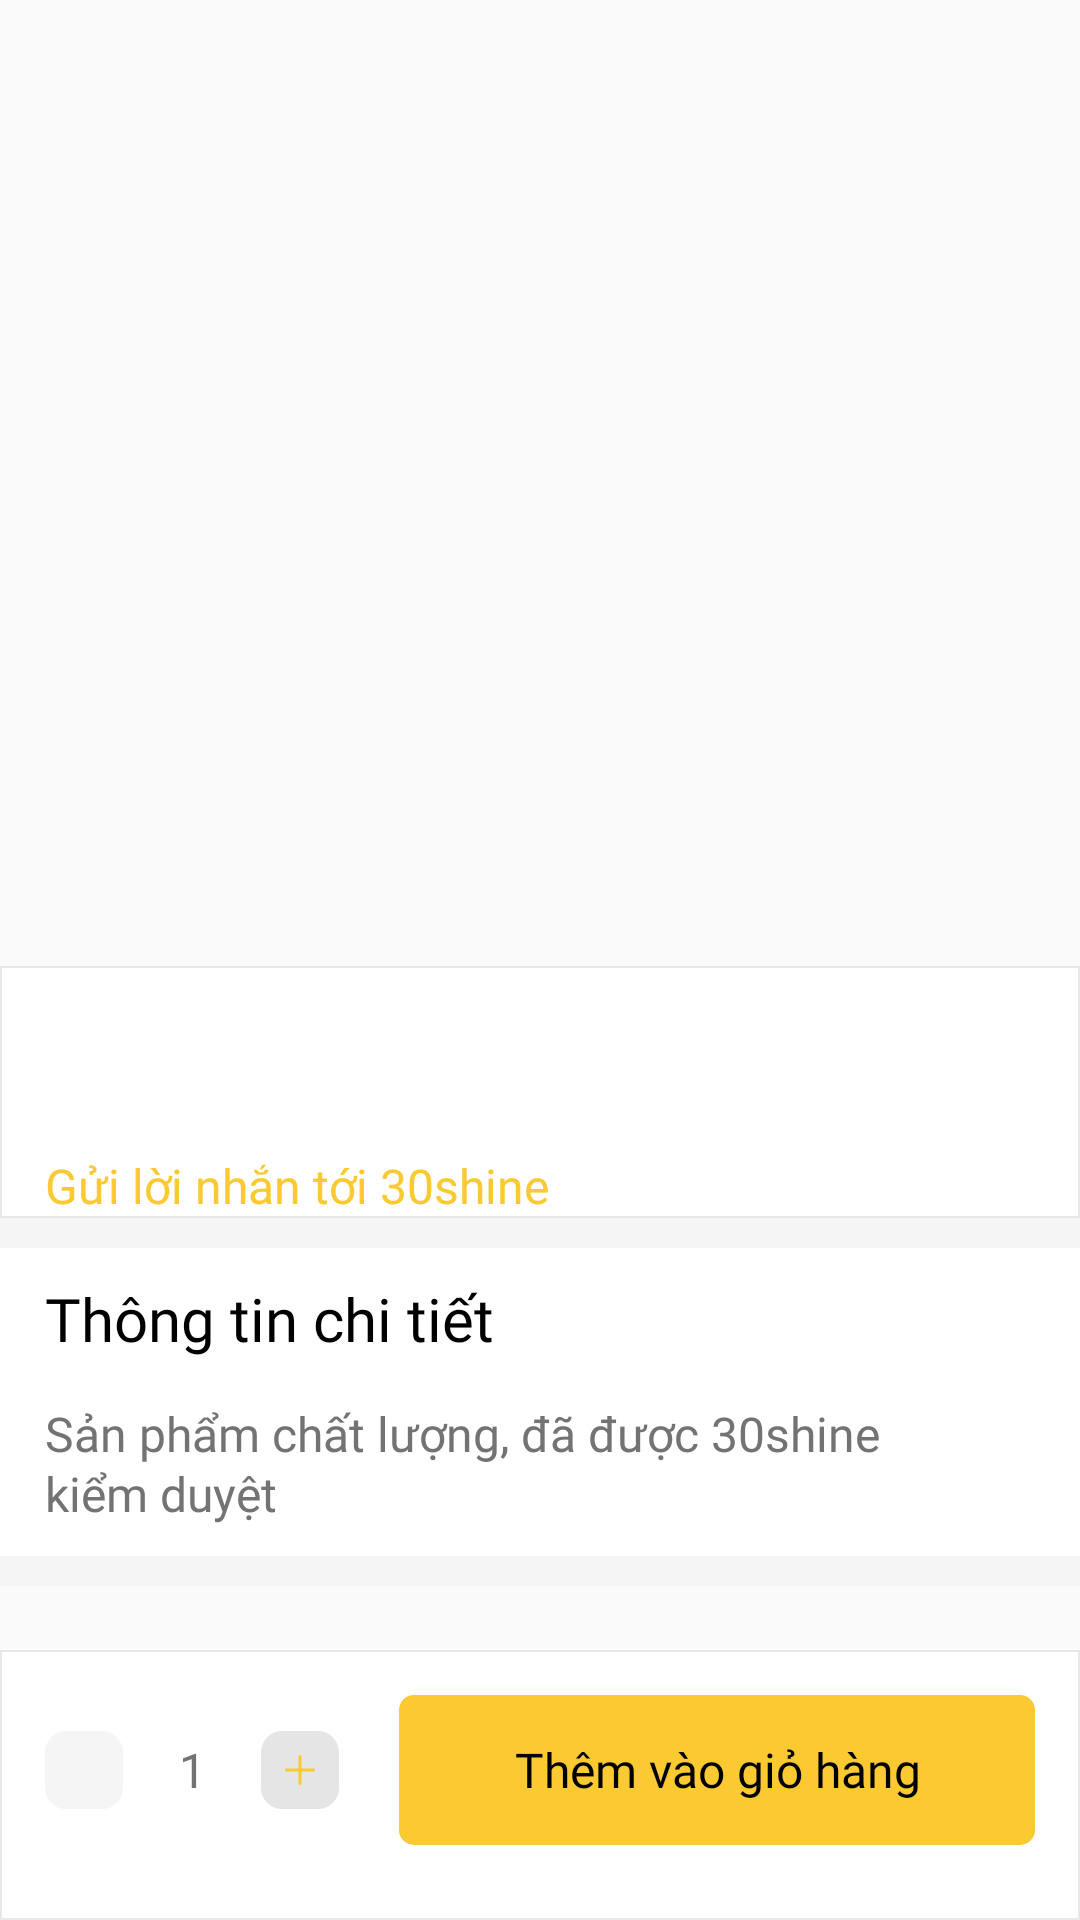

Named icons in this screenshot (1080×1920) and their bounding boxes, (x1, y1, x2, y2):
plus: (261, 1731, 339, 1809)
